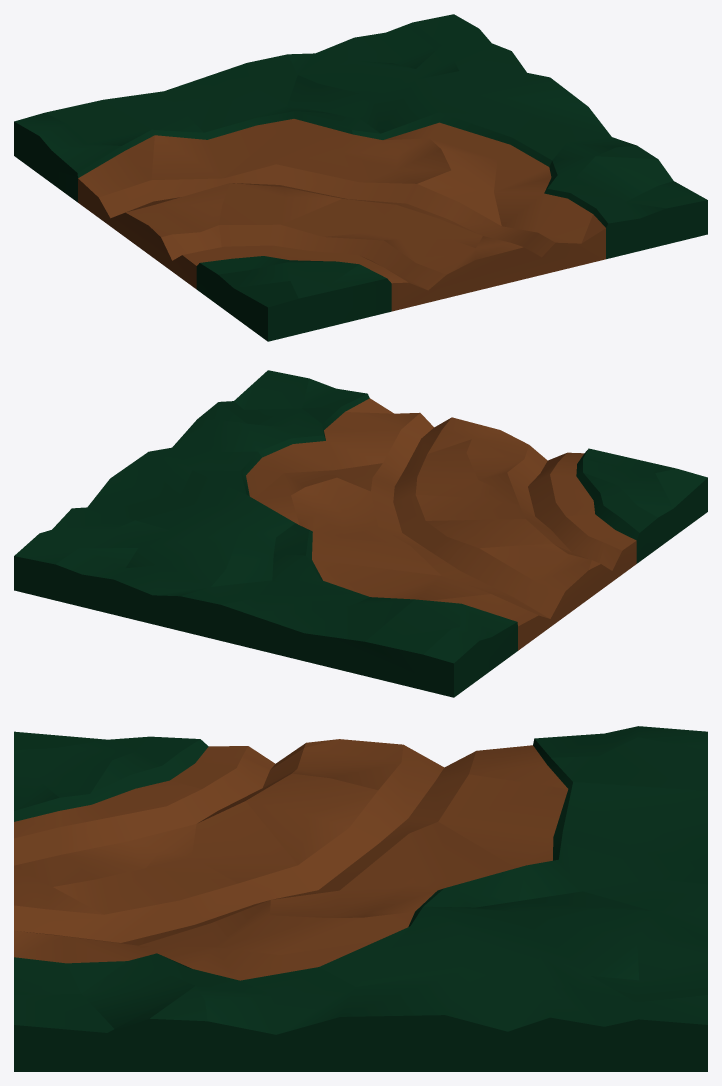
The model's file is Ground_Road_Turn_RU_1.fbx.
The picture shows the model from 3 angles, top to bottom: view 1: azimuth 30°, elevation 25°; view 2: azimuth 150°, elevation 25°; view 3: azimuth 270°, elevation 25°; orthographic projection. The views are drawn at different scales.
Visible parts, largest first — view 1: Ground_Road_Turn_RU_1; view 2: Ground_Road_Turn_RU_1; view 3: Ground_Road_Turn_RU_1.
Boxes of the visible parts, x1,y1,x2,y2 form: Ground_Road_Turn_RU_1: (14,14,707,341); Ground_Road_Turn_RU_1: (14,370,707,697); Ground_Road_Turn_RU_1: (14,726,707,1071).
Size of the model in its own units: 147 by 15.12 by 147.
